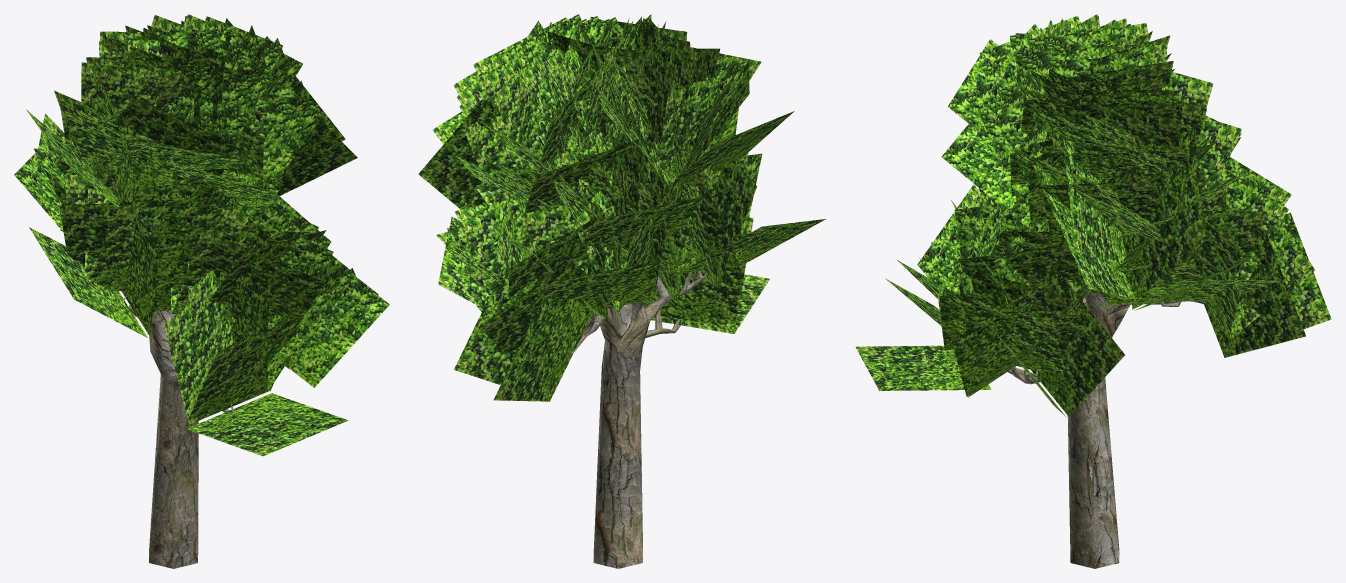
The picture shows the model from 3 angles, left to right: view 1: azimuth 30°, elevation 25°; view 2: azimuth 150°, elevation 25°; view 3: azimuth 270°, elevation 25°; orthographic projection.
Visible parts, largest first — view 1: twig_010, tree_010; view 2: twig_010, tree_010; view 3: twig_010, tree_010.
Boxes of the visible parts, x1,y1,x2,y2 form: twig_010: (14, 14, 389, 456); tree_010: (122, 294, 234, 568); twig_010: (418, 14, 825, 401); tree_010: (570, 271, 706, 568); twig_010: (855, 14, 1331, 416); tree_010: (1007, 293, 1204, 568).
Size of the model in its own units: 9.53 by 11.8 by 14.12.
Materials: 2 (2 with a texture image).
